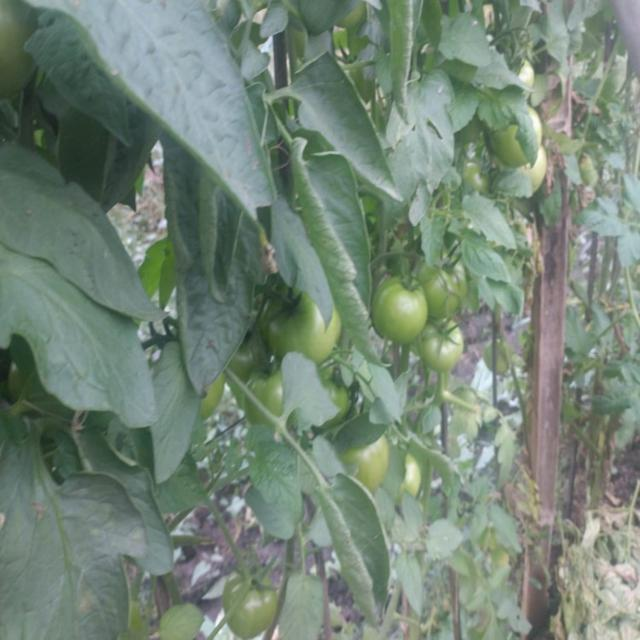tomato: (257, 296, 339, 364), (370, 275, 426, 357), (1, 1, 42, 100), (223, 572, 281, 635), (243, 369, 297, 434), (491, 105, 539, 176), (421, 256, 470, 315), (349, 434, 389, 493), (425, 327, 467, 366), (198, 372, 224, 425), (402, 455, 424, 499), (519, 150, 543, 184), (517, 60, 536, 98)
